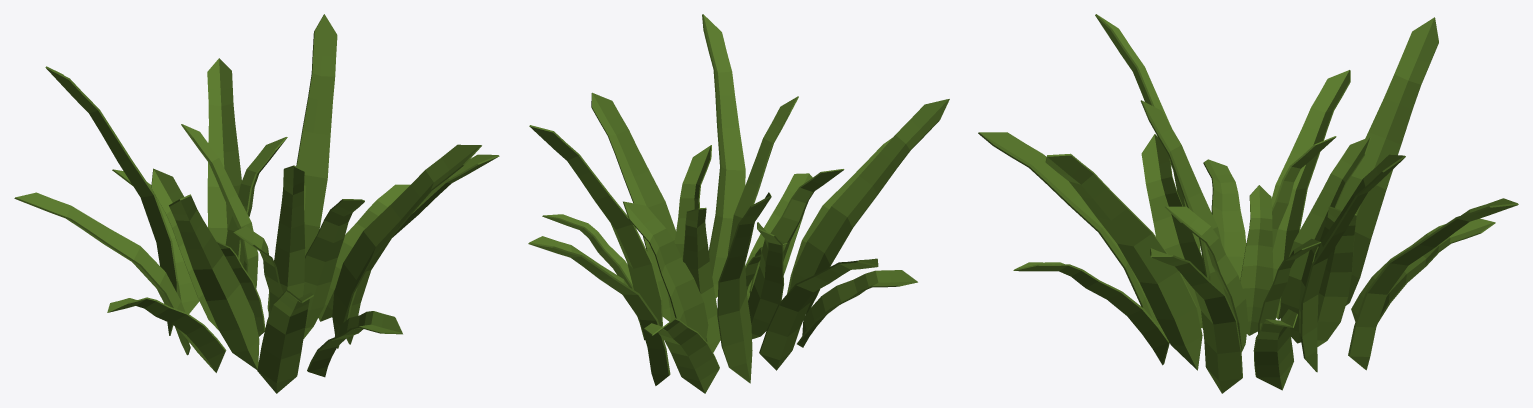
Rendered from DarkBigPatch.fbx.
The picture shows the model from 3 angles, left to right: view 1: azimuth 30°, elevation 25°; view 2: azimuth 150°, elevation 25°; view 3: azimuth 270°, elevation 25°; orthographic projection. The views are drawn at different scales.
Parts seen in each view (by area): view 1: dark big patch; view 2: dark big patch; view 3: dark big patch.
Boxes of the visible parts, left/top/right/bottom form: dark big patch: left=14, top=14, right=499, bottom=393; dark big patch: left=528, top=14, right=949, bottom=393; dark big patch: left=978, top=14, right=1518, bottom=393.
Size of the model in its own units: 273 by 243 by 153.
